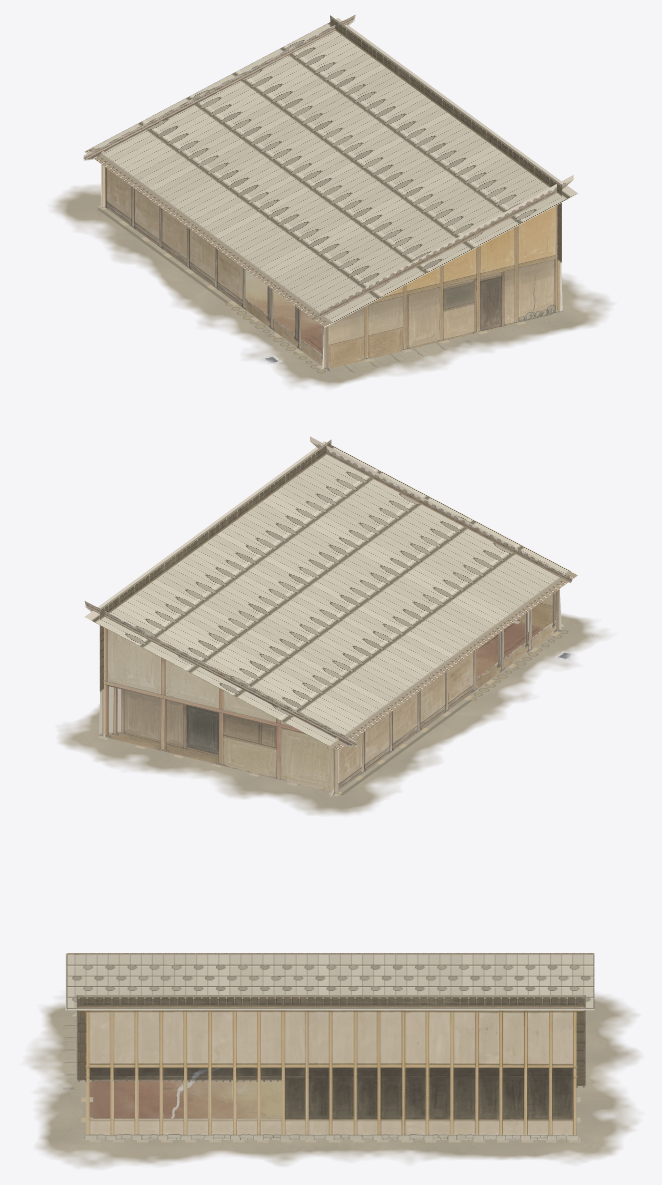
File: kakiwari-center-1-50.glb
3 renders of one model, top to bottom at view 1: azimuth 30°, elevation 25°; view 2: azimuth 150°, elevation 25°; view 3: azimuth 270°, elevation 25°, orthographic. The views are drawn at different scales.
Visible parts, largest first — view 1: 屋根（西面の屋根帯）, 南面, 地面, 西面（壁）, 東面, 北面; view 2: 屋根（西面の屋根帯）, 北面, 地面, 西面（壁）, 東面, 南面; view 3: 東面, 地面, 屋根（西面の屋根帯）.
Boxes of the visible parts, x1=… form: 屋根（西面の屋根帯）: x1=85, y1=18, x2=578, y2=327; 南面: x1=311, y1=175, x2=573, y2=370; 地面: x1=51, y1=185, x2=612, y2=387; 西面（壁）: x1=99, y1=167, x2=335, y2=373; 東面: x1=330, y1=15, x2=561, y2=313; 北面: x1=83, y1=14, x2=355, y2=207; 屋根（西面の屋根帯）: x1=85, y1=441, x2=577, y2=750; 北面: x1=84, y1=601, x2=356, y2=793; 地面: x1=58, y1=613, x2=609, y2=815; 西面（壁）: x1=326, y1=591, x2=563, y2=796; 東面: x1=99, y1=439, x2=331, y2=737; 南面: x1=310, y1=436, x2=572, y2=631; 東面: x1=76, y1=995, x2=586, y2=1139; 地面: x1=26, y1=993, x2=640, y2=1168; 屋根（西面の屋根帯）: x1=65, y1=953, x2=594, y2=1010.
Size of the model in its own units: 0.3546 by 0.135 by 0.5122.
Materials: 6 (6 with a texture image).
